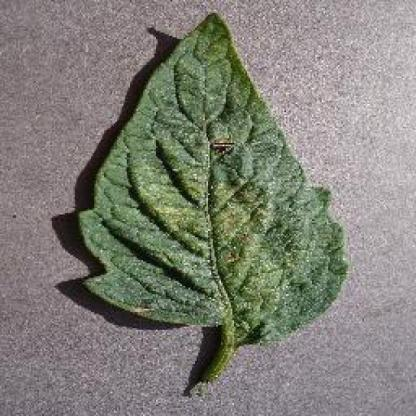Tomato_Spider_Mites: (79, 15, 344, 333)
